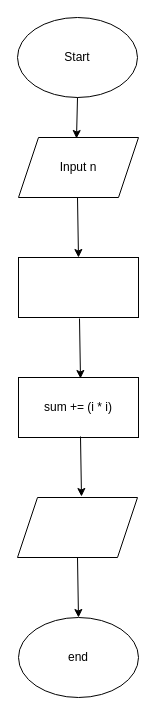
Some shapes in this 156 by 715 pixel diagram are drawn without their labels. The centre of each missing label's shape, as x and y in pixels:
i = 1; i <= n; i++: pixel 78 287
return sum: pixel 77 527
